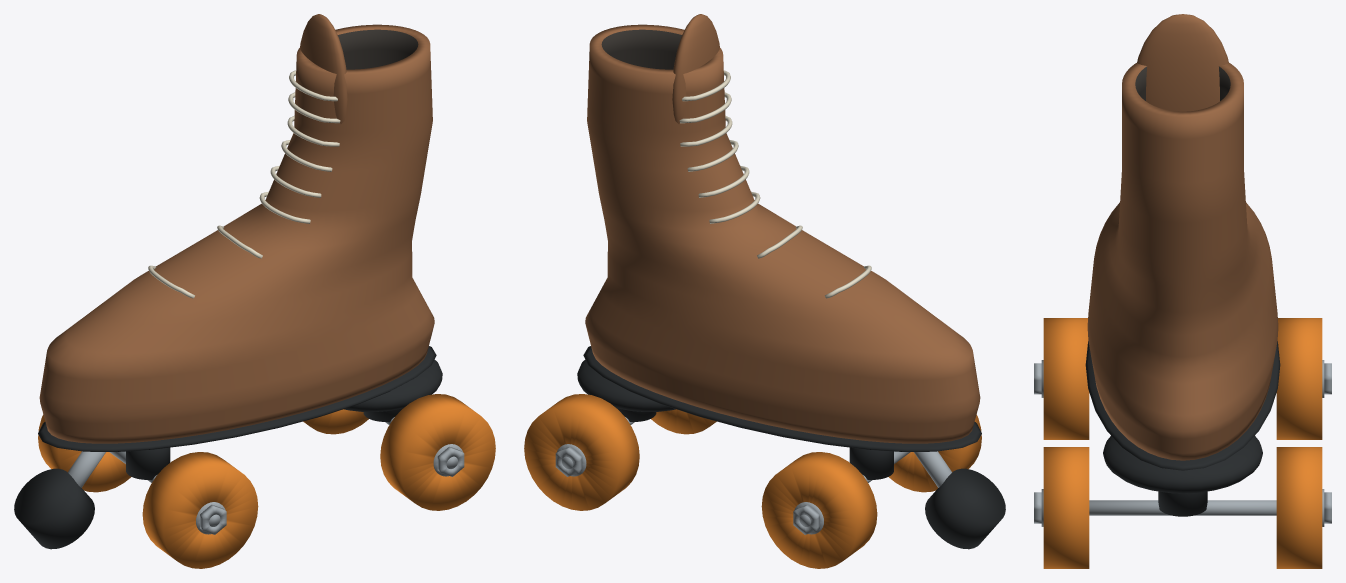
The picture shows the model from 3 angles, left to right: view 1: azimuth 30°, elevation 25°; view 2: azimuth 150°, elevation 25°; view 3: azimuth 270°, elevation 25°; orthographic projection. The views are drawn at different scales.
Visible parts, largest first — view 1: Hollow lace-up skate boot, Rotating quad wheel 0 -1, Rotating quad wheel 1 -1, Front toe brake, Rubber outsole, Raised boot tongue, Rotating quad wheel 0 1, Rear heel block, Kingpin cushion 0, Rotating quad wheel 1 1, Toe stop threaded support; view 2: Hollow lace-up skate boot, Rotating quad wheel 0 1, Rotating quad wheel 1 1, Front toe brake, Rubber outsole, Raised boot tongue, Rotating quad wheel 0 -1, Rear heel block, Kingpin cushion 0, Rotating quad wheel 1 -1, Toe stop threaded support; view 3: Hollow lace-up skate boot, Raised boot tongue, Rotating quad wheel 1 -1, Rotating quad wheel 1 1, Rotating quad wheel 0 -1, Rotating quad wheel 0 1, Rear heel block, Rubber outsole, Transverse axle 1, Kingpin cushion 1.
Part boxes in pixels (box(x1,y1,x2,y2)): Hollow lace-up skate boot: box(39, 24, 434, 443); Rotating quad wheel 0 -1: box(142, 452, 258, 568); Rotating quad wheel 1 -1: box(380, 394, 495, 510); Front toe brake: box(14, 468, 94, 549); Rubber outsole: box(38, 346, 436, 451); Raised boot tongue: box(300, 14, 347, 123); Rotating quad wheel 0 1: box(38, 414, 130, 492); Rear heel block: box(344, 359, 442, 411); Kingpin cushion 0: box(126, 447, 170, 479); Rotating quad wheel 1 1: box(303, 409, 368, 434); Toe stop threaded support: box(68, 451, 105, 487); Hollow lace-up skate boot: box(585, 24, 980, 443); Rotating quad wheel 0 1: box(761, 452, 877, 568); Rotating quad wheel 1 1: box(524, 394, 639, 510); Front toe brake: box(925, 468, 1005, 549); Rubber outsole: box(583, 346, 981, 451); Raised boot tongue: box(672, 14, 719, 123); Rotating quad wheel 0 -1: box(889, 414, 981, 492); Rear heel block: box(577, 359, 675, 411); Kingpin cushion 0: box(849, 447, 893, 479); Rotating quad wheel 1 -1: box(651, 409, 716, 434); Toe stop threaded support: box(914, 451, 951, 487); Hollow lace-up skate boot: box(1087, 63, 1278, 460); Raised boot tongue: box(1137, 14, 1228, 111); Rotating quad wheel 1 -1: box(1043, 447, 1089, 568); Rotating quad wheel 1 1: box(1276, 447, 1322, 568); Rotating quad wheel 0 -1: box(1043, 318, 1089, 439); Rotating quad wheel 0 1: box(1276, 318, 1322, 439); Rear heel block: box(1103, 436, 1262, 493); Rubber outsole: box(1085, 341, 1280, 470); Transverse axle 1: box(1089, 500, 1276, 515); Kingpin cushion 1: box(1158, 491, 1207, 516).
Size of the model in its own units: 0.2785 by 0.298 by 0.156.
